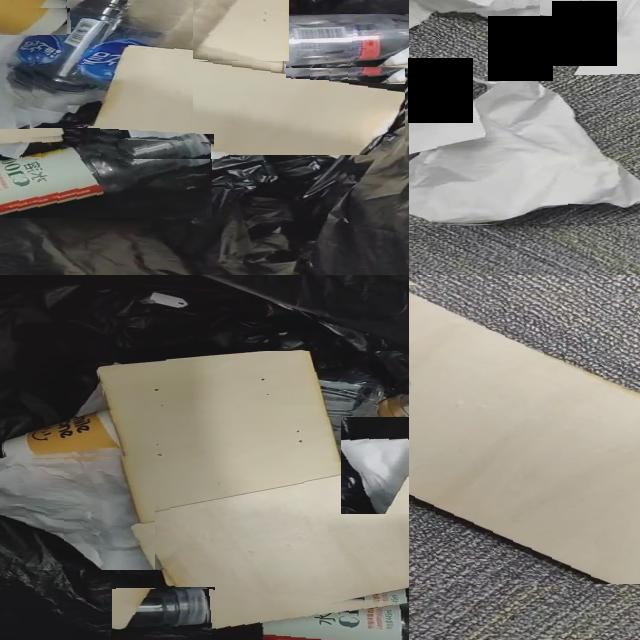bottle: (16, 0, 180, 128), (0, 139, 211, 214), (208, 602, 409, 640), (286, 14, 409, 68), (112, 589, 209, 640)
carton: (98, 351, 409, 628), (409, 291, 640, 584), (90, 52, 405, 155), (129, 0, 289, 61)
dixie_cup: (3, 411, 117, 459), (0, 0, 67, 35)
paper: (409, 76, 640, 225), (0, 449, 153, 570), (543, 0, 640, 159), (341, 440, 409, 514), (119, 140, 230, 159), (285, 40, 333, 67), (77, 385, 104, 417)
